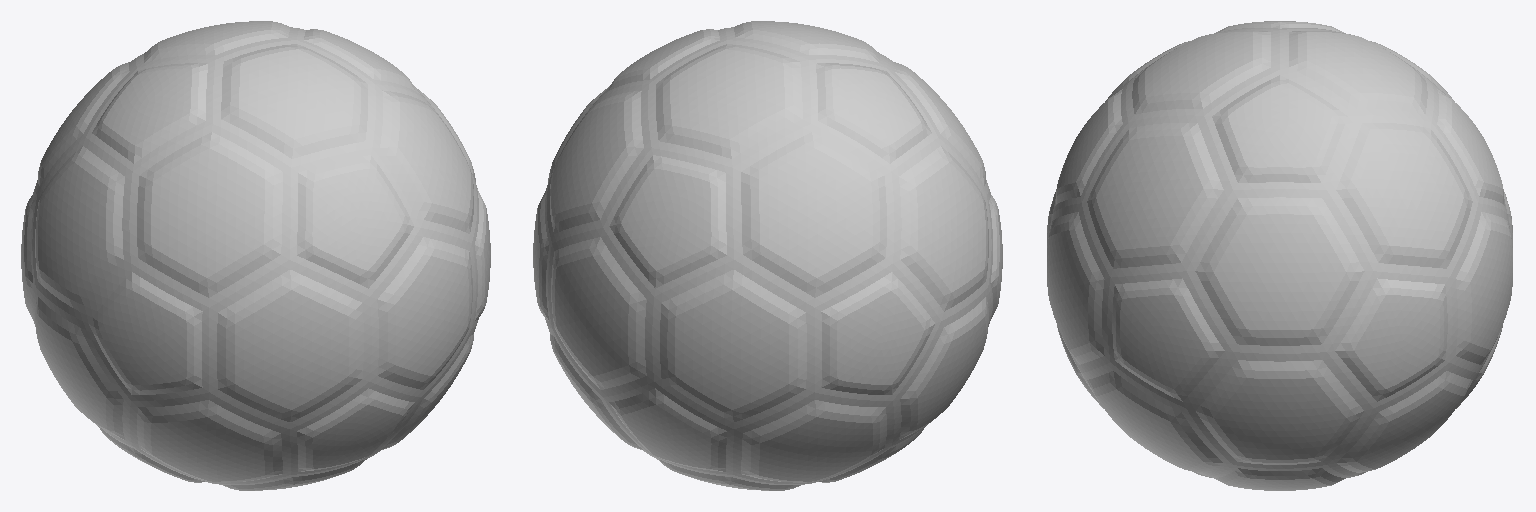
Rendered from soccerball.obj.
The picture shows the model from 3 angles: view 1: azimuth 30°, elevation 25°; view 2: azimuth 150°, elevation 25°; view 3: azimuth 270°, elevation 25°; orthographic projection.
Parts seen in each view (by area): view 1: Solid; view 2: Solid; view 3: Solid.
Part boxes in pixels (left/top/right/bottom): Solid: left=21, top=21, right=490, bottom=490; Solid: left=533, top=21, right=1002, bottom=490; Solid: left=1047, top=21, right=1512, bottom=490.
Bounding box in the file's own units: 1.85 × 1.85 × 1.85.